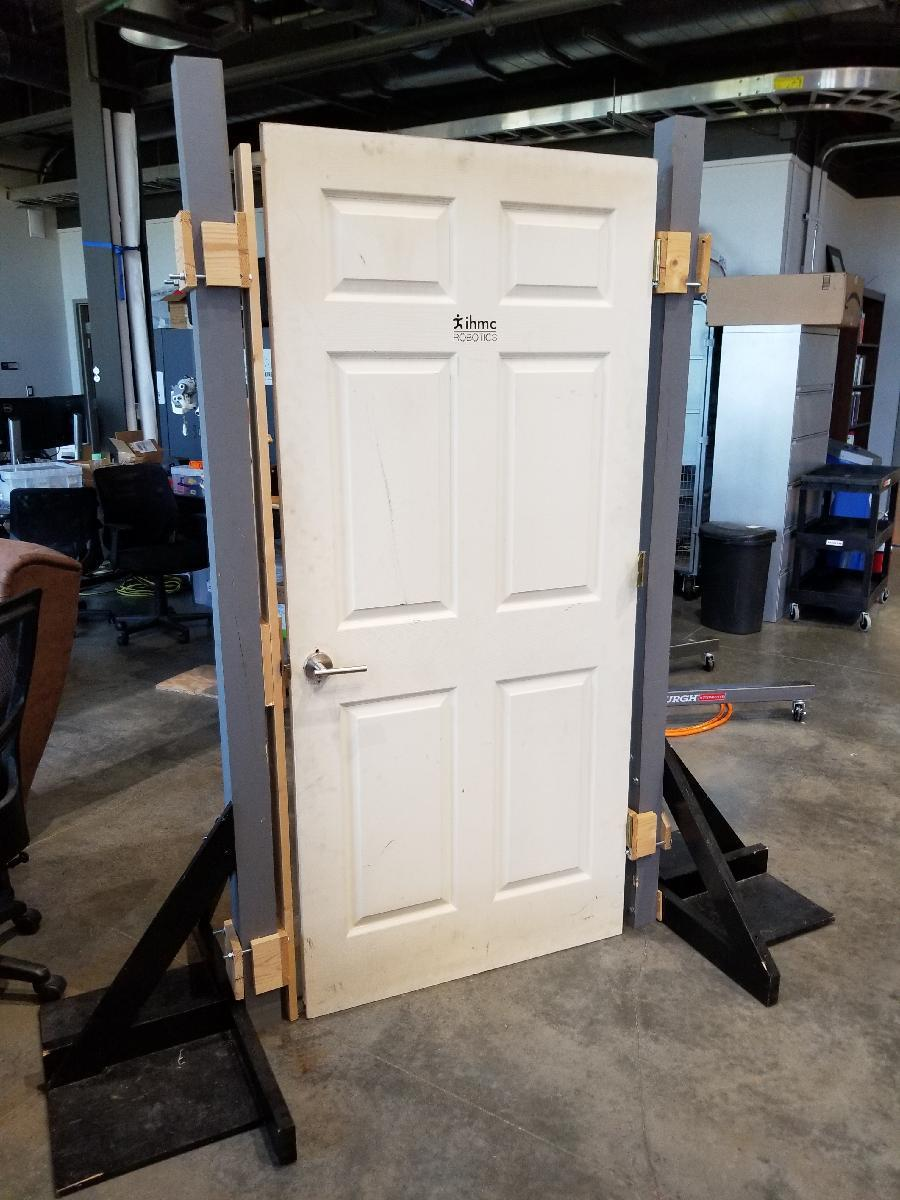door: (266, 123, 631, 967)
handle: (300, 653, 371, 684)
